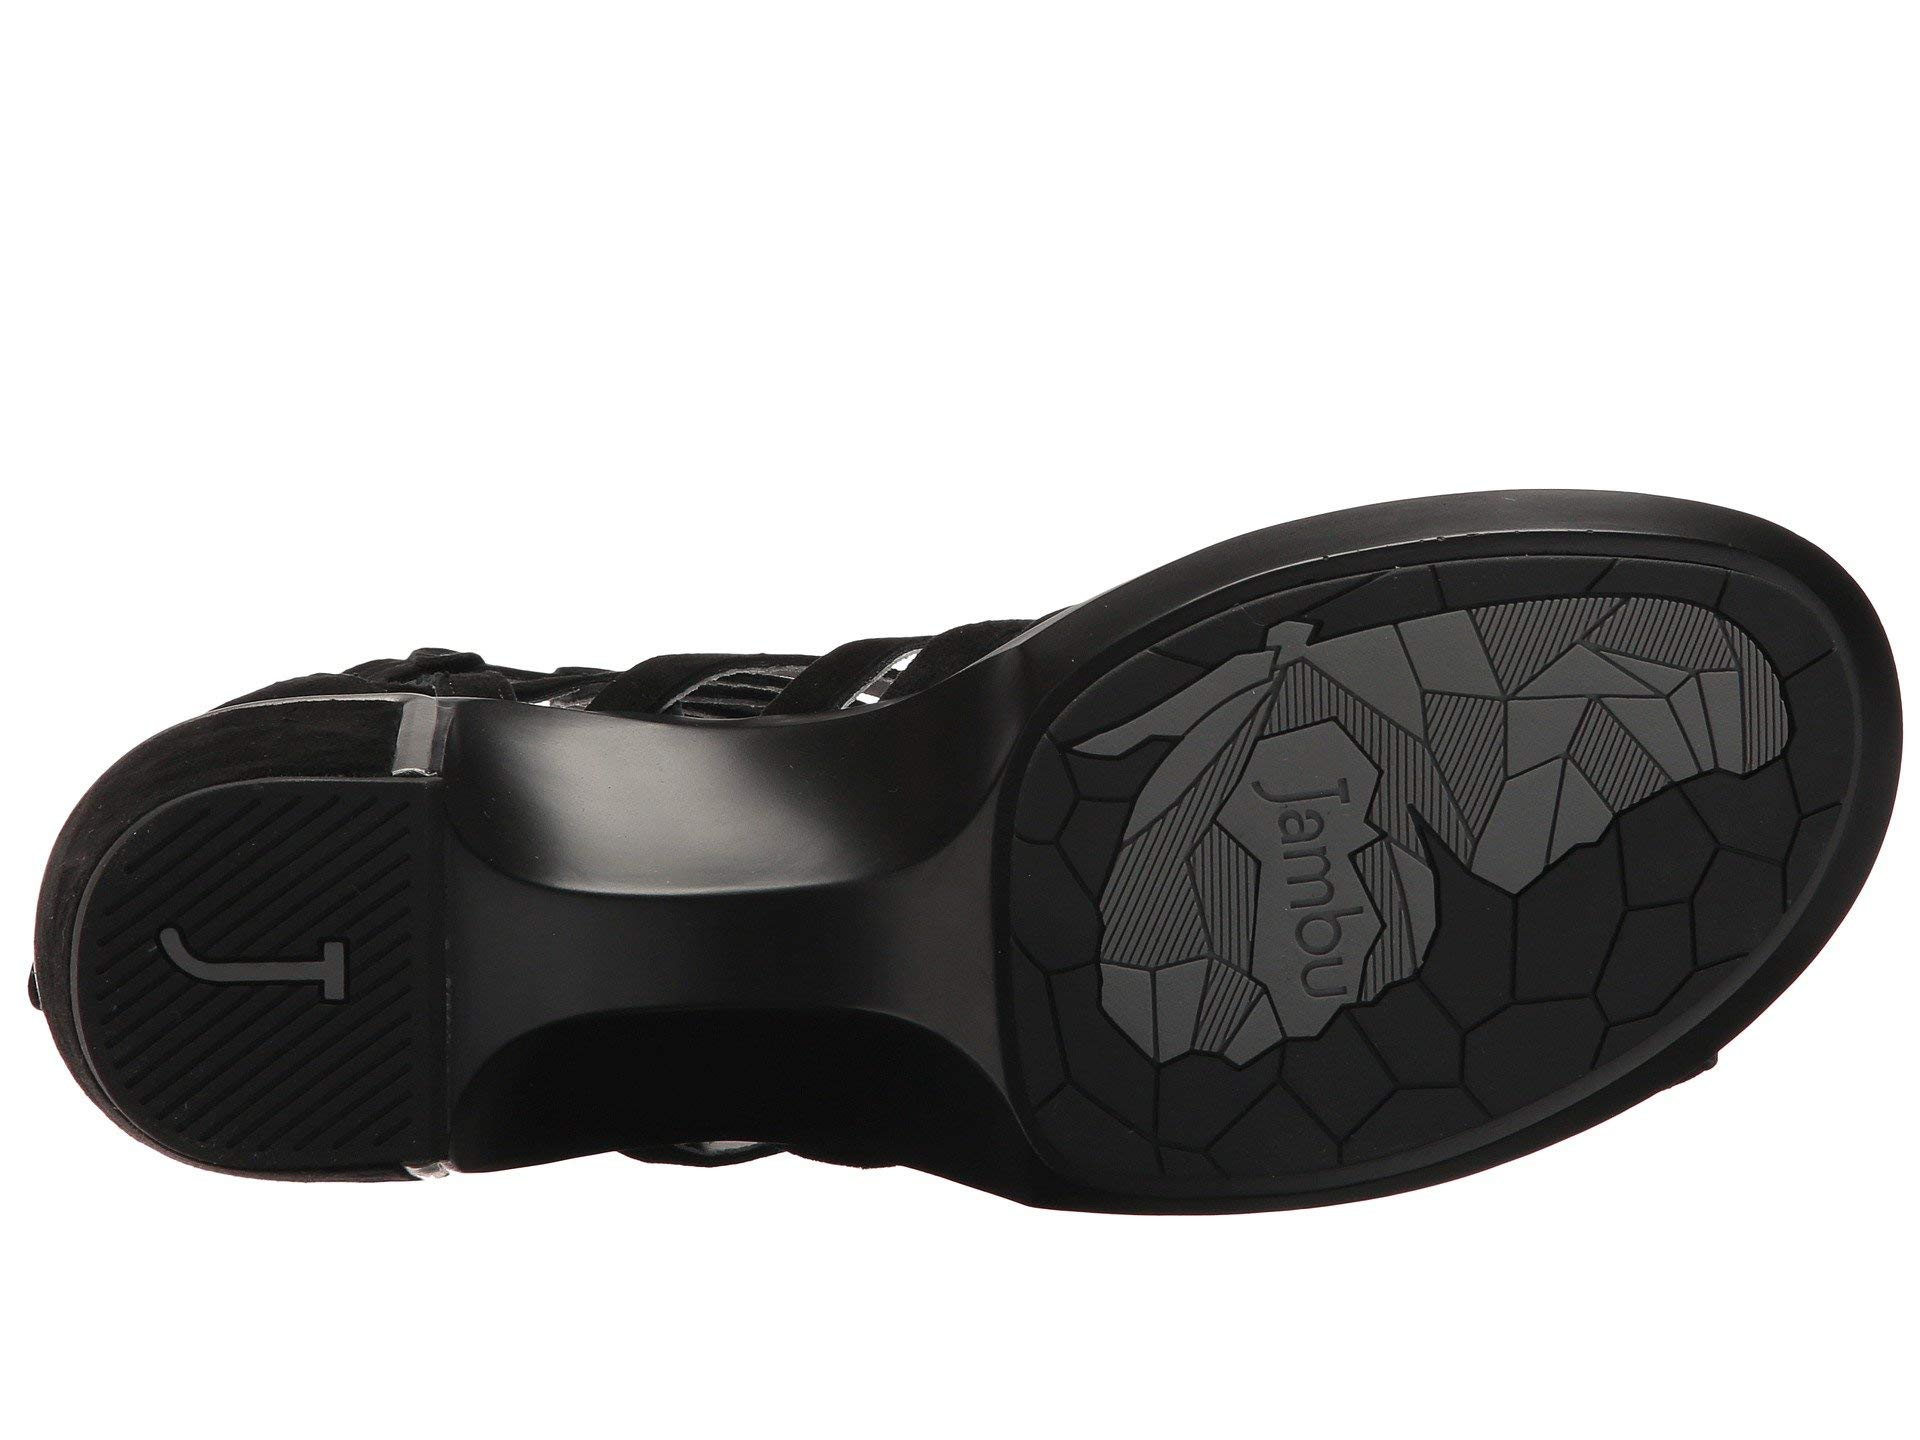circle: (1228, 759, 1380, 1027)
line: (1421, 626, 1717, 1007), (144, 846, 426, 1116)
polygon: (1421, 626, 1717, 1007)
quad: (1421, 626, 1717, 1007)
text: (144, 846, 426, 1116), (1228, 759, 1380, 1027)
triangle: (1421, 626, 1717, 1007)
